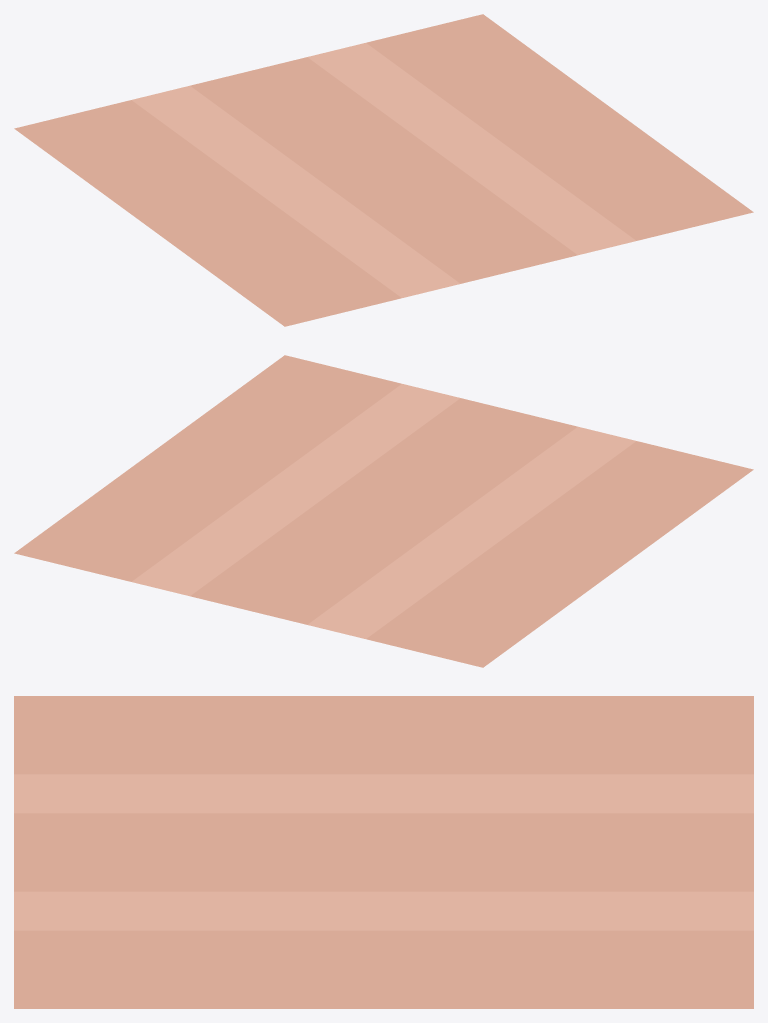
File: terrain_roadStraight.glb
3 renders of one model, top to bottom at view 1: azimuth 30°, elevation 25°; view 2: azimuth 150°, elevation 25°; view 3: azimuth 270°, elevation 25°, orthographic. The views are drawn at different scales.
Visible parts, largest first — view 1: terrain_roadStraight; view 2: terrain_roadStraight; view 3: terrain_roadStraight.
Part boxes in pixels (left/top/right/bottom): terrain_roadStraight: left=14, top=14, right=753, bottom=326; terrain_roadStraight: left=14, top=355, right=753, bottom=667; terrain_roadStraight: left=14, top=696, right=753, bottom=1008.
Bounding box in the file's own units: 1 × 0 × 1.
1 material, 1 textured.
